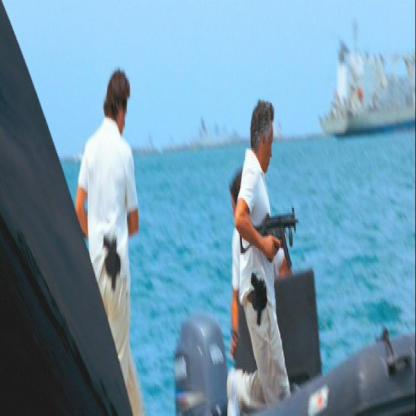Gun: (235, 205, 300, 264), (246, 266, 268, 328), (102, 231, 120, 293)
